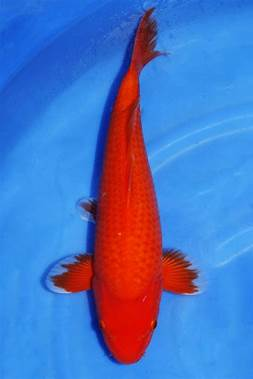red: (42, 4, 207, 365)
